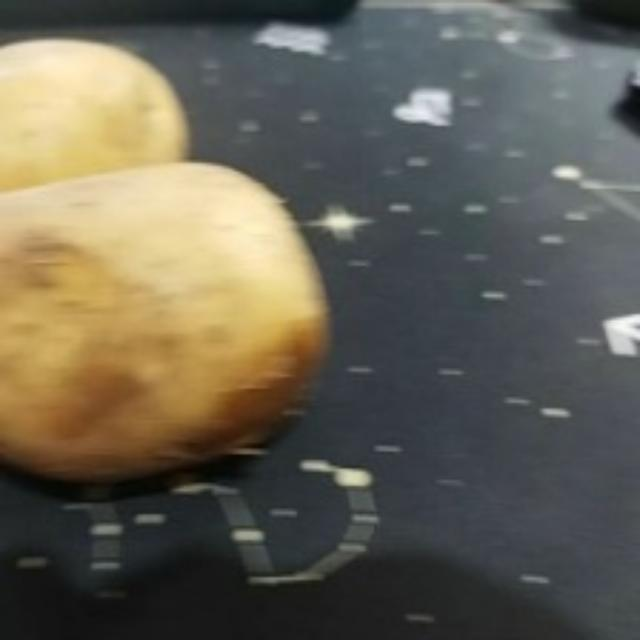Damaged potato: (2, 160, 344, 486)
